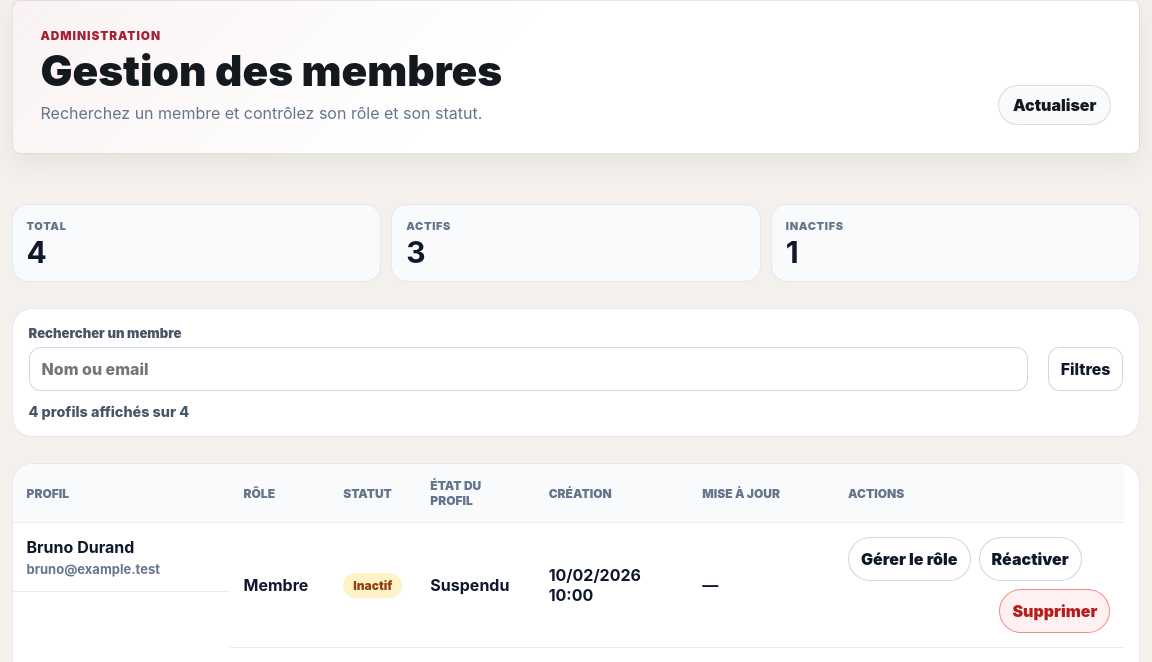
Test: recherche et filtres des membres › combine recherche, rôle et état du profil puis réinitialise les filtres
The image size is (1152, 662).
Click the heading "Filtres" at (1086,370), box x1=1048 y1=348 x2=1124 y2=392
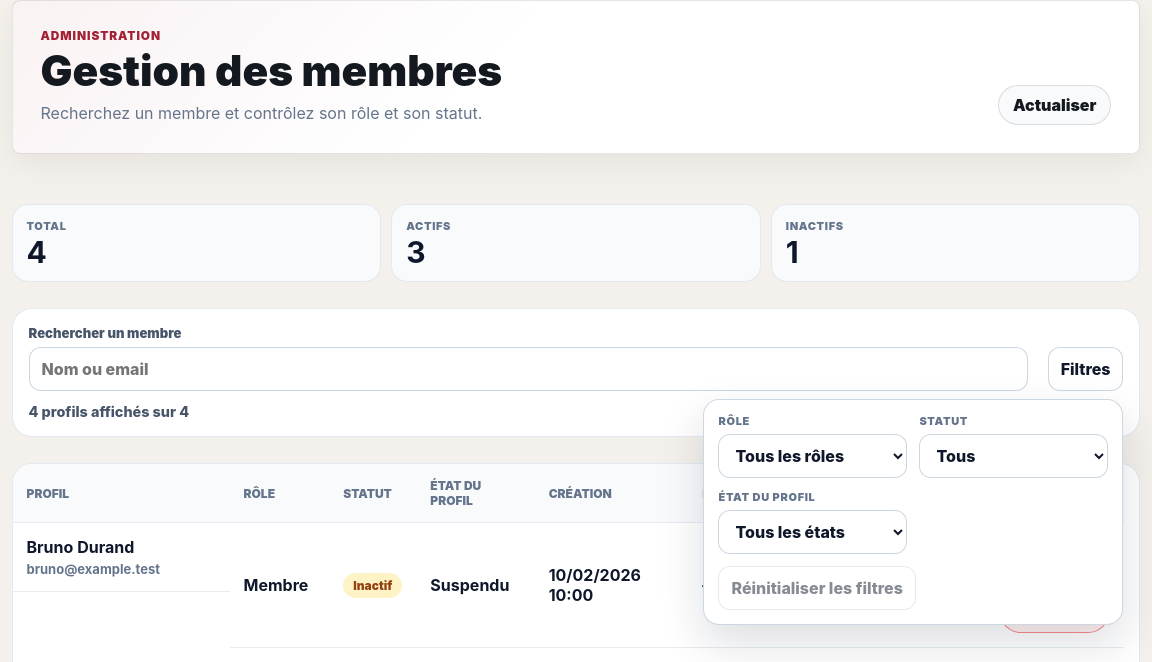
Type "alpha" into the search field labelled "Rechercher un membre" at (528,370), box x1=28 y1=348 x2=1028 y2=392
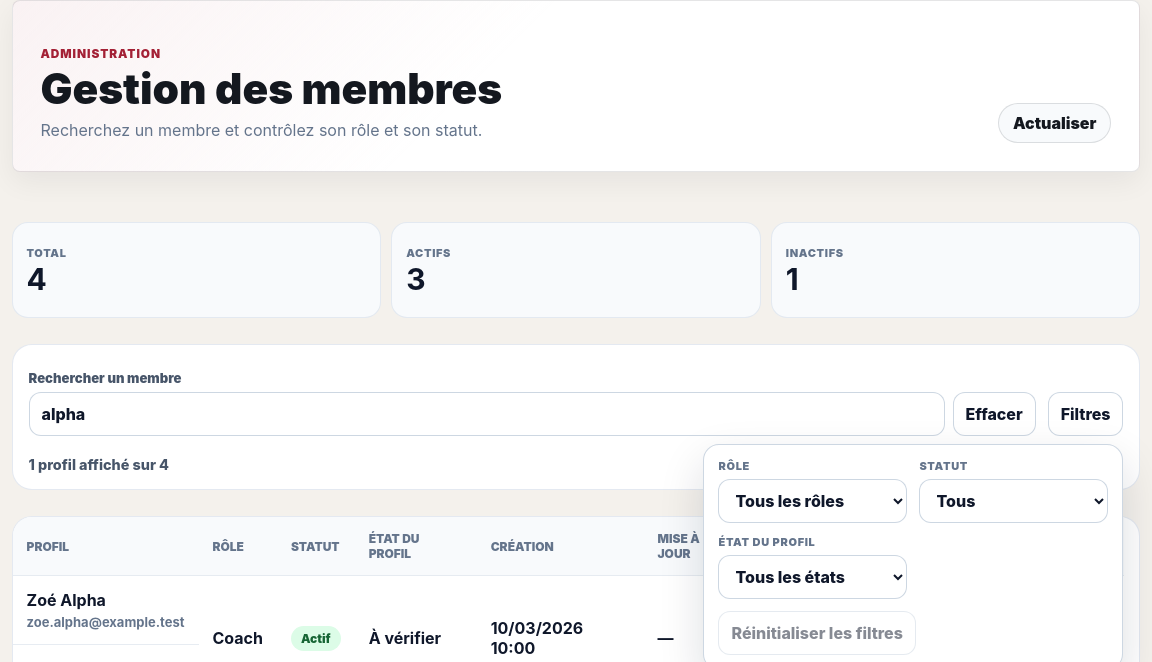
Select "Coach" in the dropdown labelled "Rôle" at (813,500), box x1=718 y1=478 x2=908 y2=522
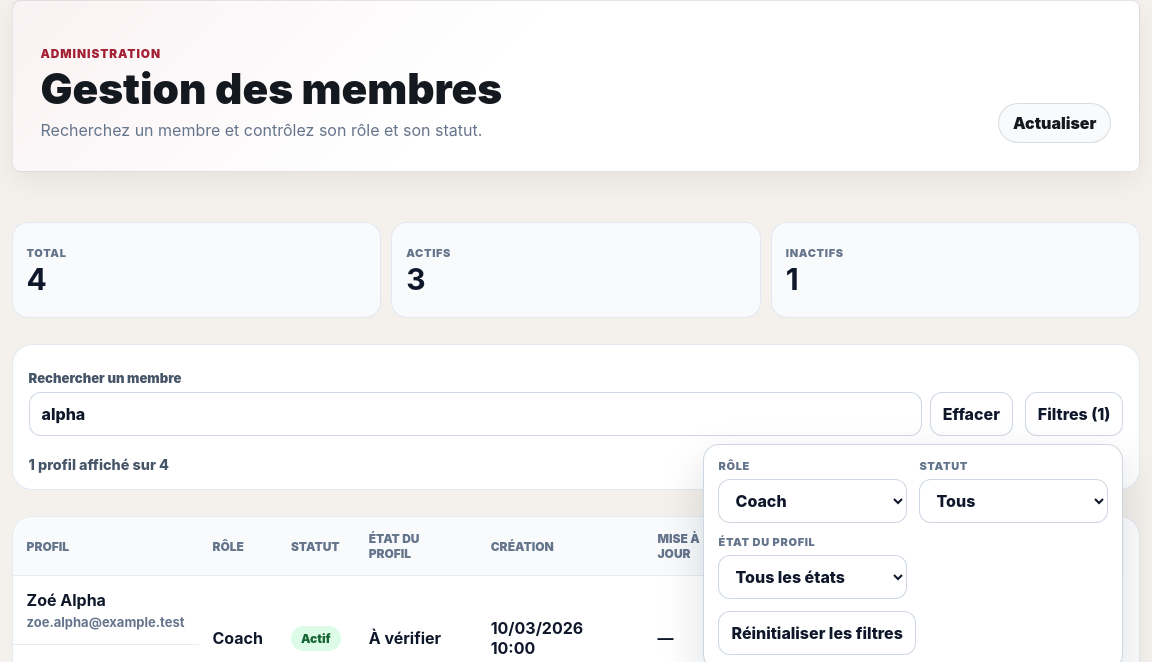
Select "À vérifier" in the dropdown labelled "État du profil" at (813,576), box x1=718 y1=554 x2=908 y2=598
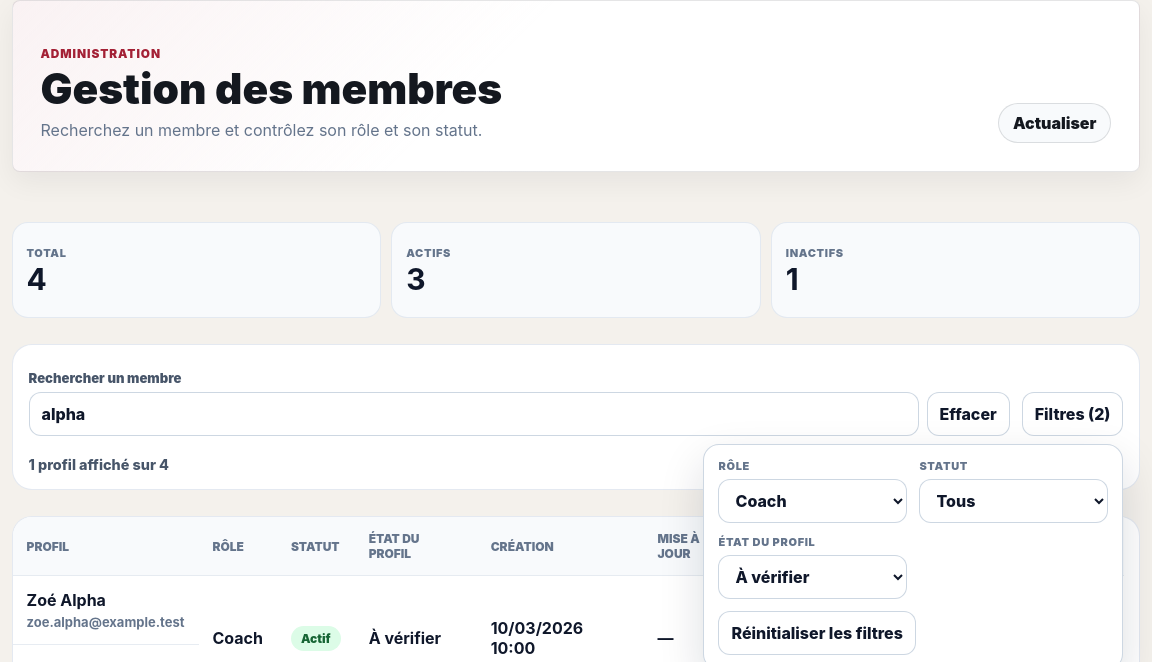
Expected: the text "1 profil affiché sur 4" is shown, x1=28 y1=456 x2=169 y2=473
Expected: the heading "Filtres (2)" is shown, x1=1022 y1=392 x2=1124 y2=436
Click the button "Réinitialiser les filtres" at (817,632), box x1=718 y1=610 x2=916 y2=654
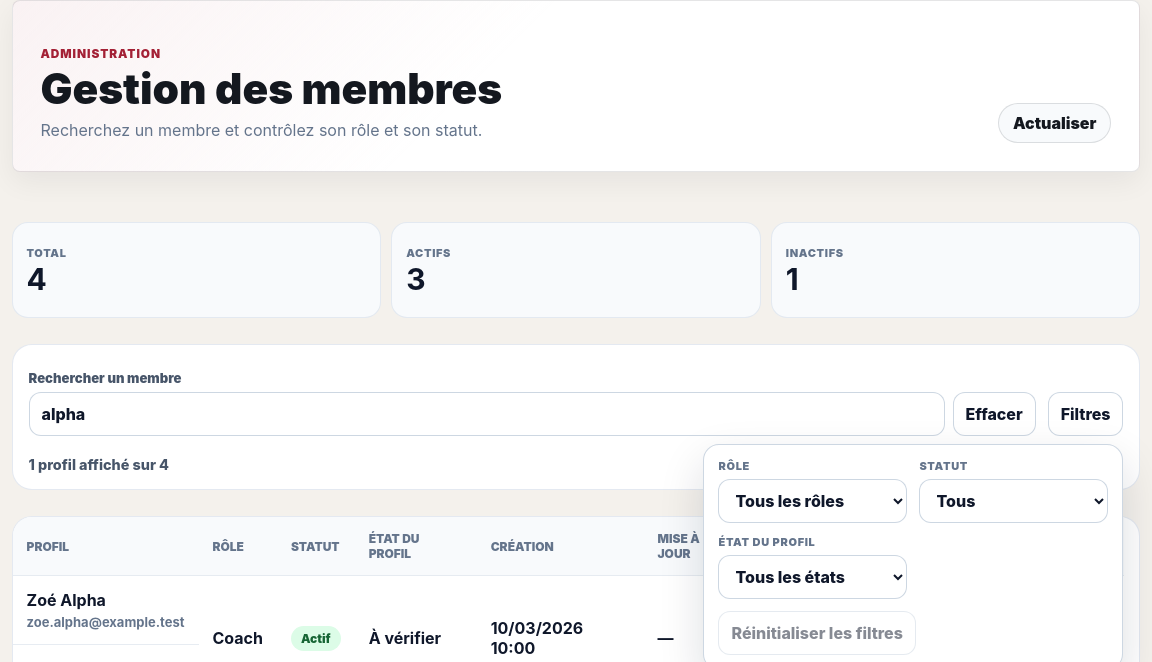
Expected: the dropdown labelled "Statut" shows "Tous", x1=920 y1=478 x2=1108 y2=522
Expected: the text "1 profil affiché sur 4" is shown, x1=28 y1=456 x2=169 y2=473
Click the button named "Effacer la recherche" at (994,414), box x1=952 y1=392 x2=1036 y2=436
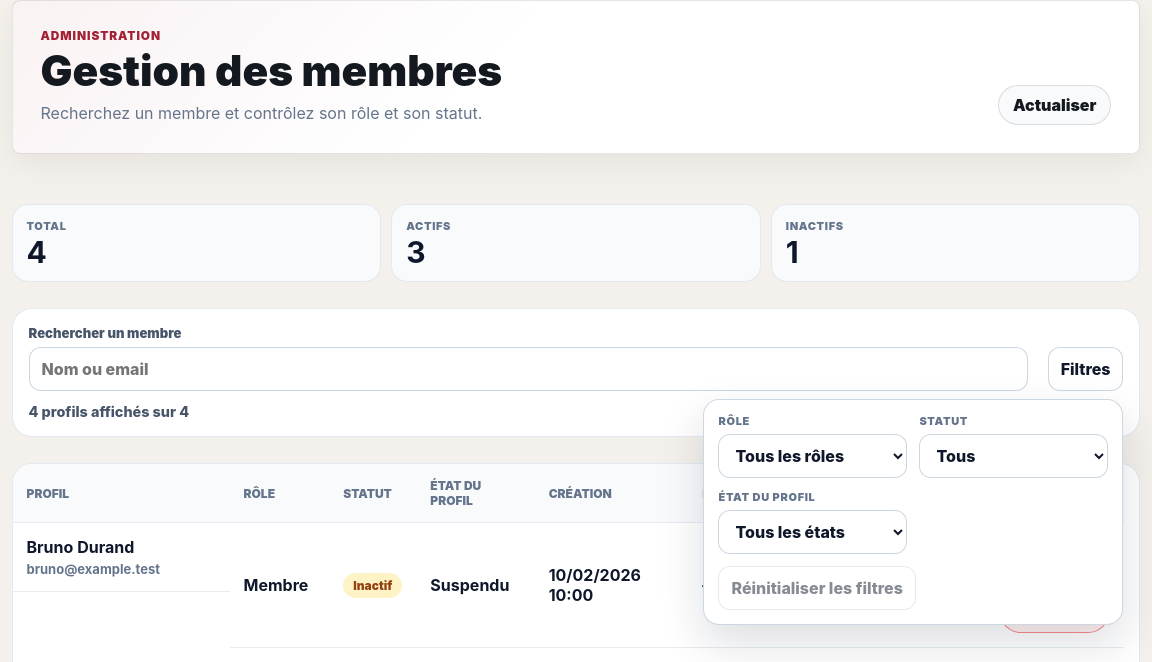
Expected: the text "4 profils affichés sur 4" is shown, x1=28 y1=404 x2=189 y2=420
